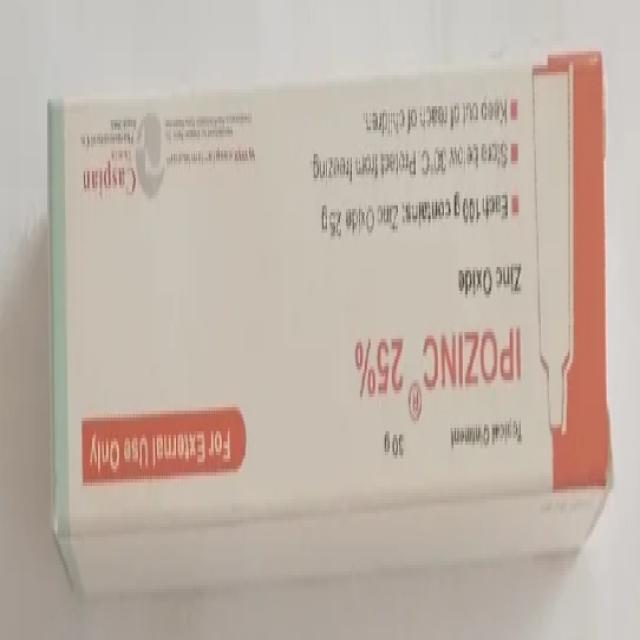drug-name: (350, 326, 532, 396)
